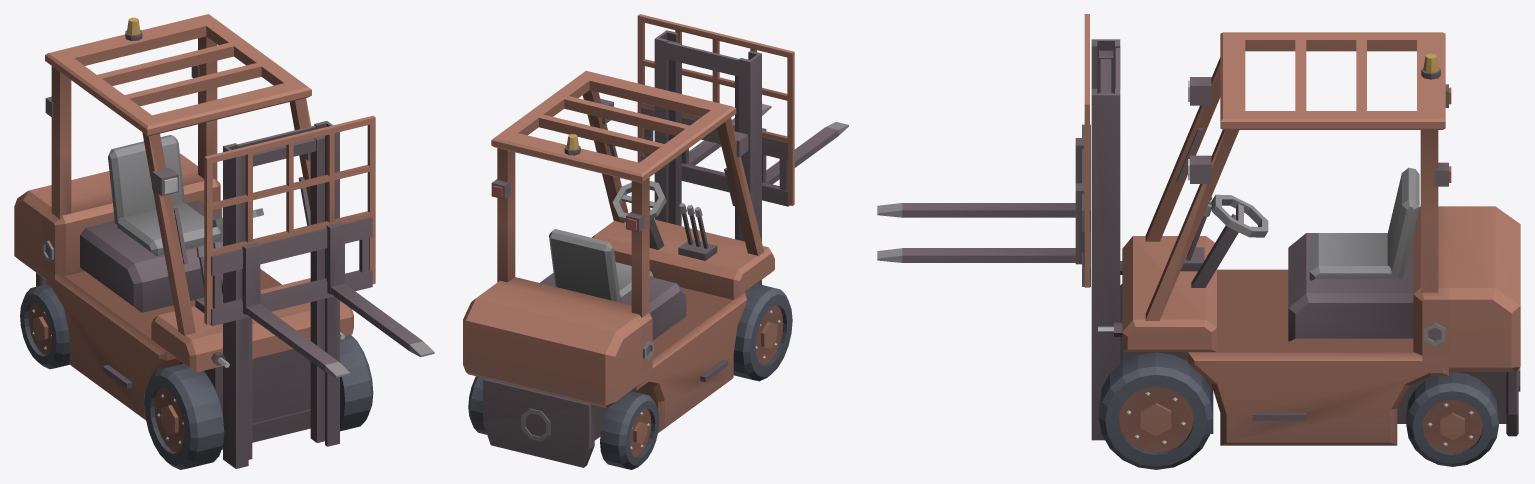
The model's file is forklift.glb.
3 views of the same model, side by side, from view 1: azimuth 30°, elevation 25°; view 2: azimuth 150°, elevation 25°; view 3: azimuth 270°, elevation 25° (orthographic). The views are drawn at different scales.
Visible parts, largest first — view 1: forklift; view 2: forklift; view 3: forklift.
Boxes of the visible parts, x1,y1,x2,y2 form: forklift: [14, 14, 434, 469]; forklift: [463, 14, 848, 469]; forklift: [877, 14, 1520, 469].
Bounding box in the file's own units: 1.3 × 2.27 × 3.6.
